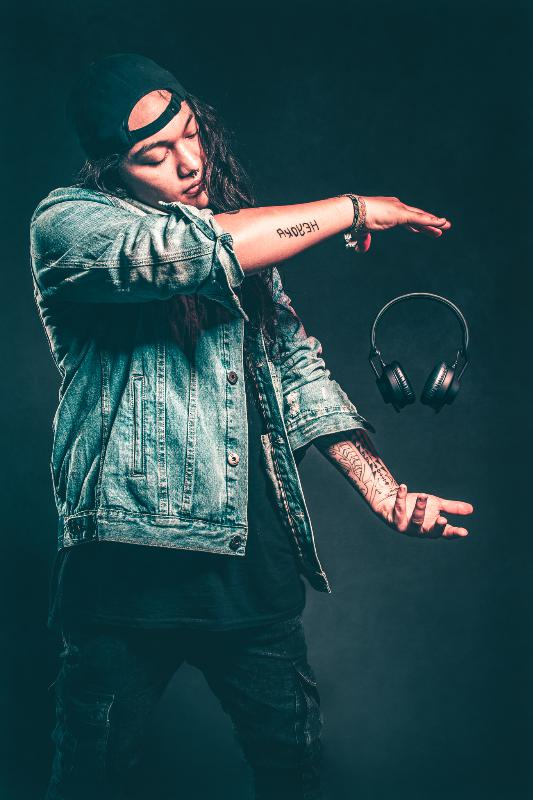Person: (27, 52, 372, 793)
